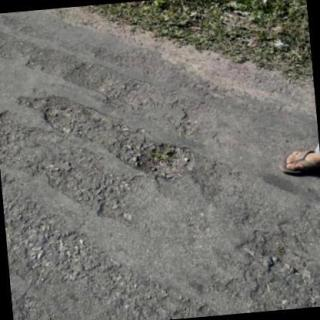pothole: (136, 143, 193, 174)
